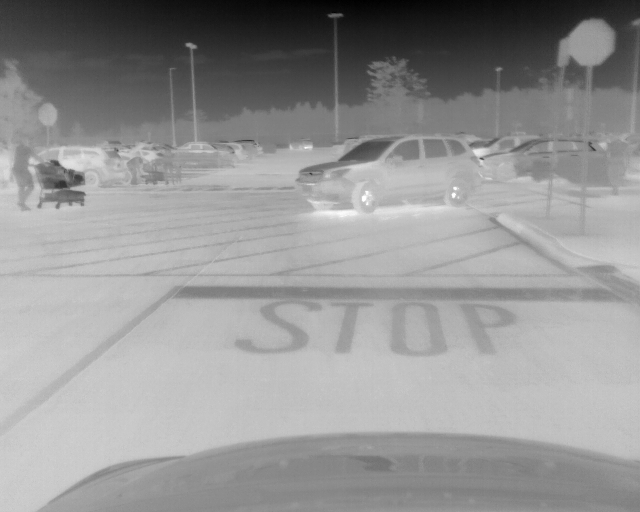car: (293, 132, 484, 210), (477, 136, 608, 183), (25, 145, 125, 189), (473, 134, 537, 158), (118, 149, 142, 185), (179, 141, 233, 155), (138, 144, 170, 161), (238, 138, 263, 156), (225, 141, 246, 162), (287, 138, 314, 151)
people: (10, 138, 46, 211), (128, 156, 150, 183)
